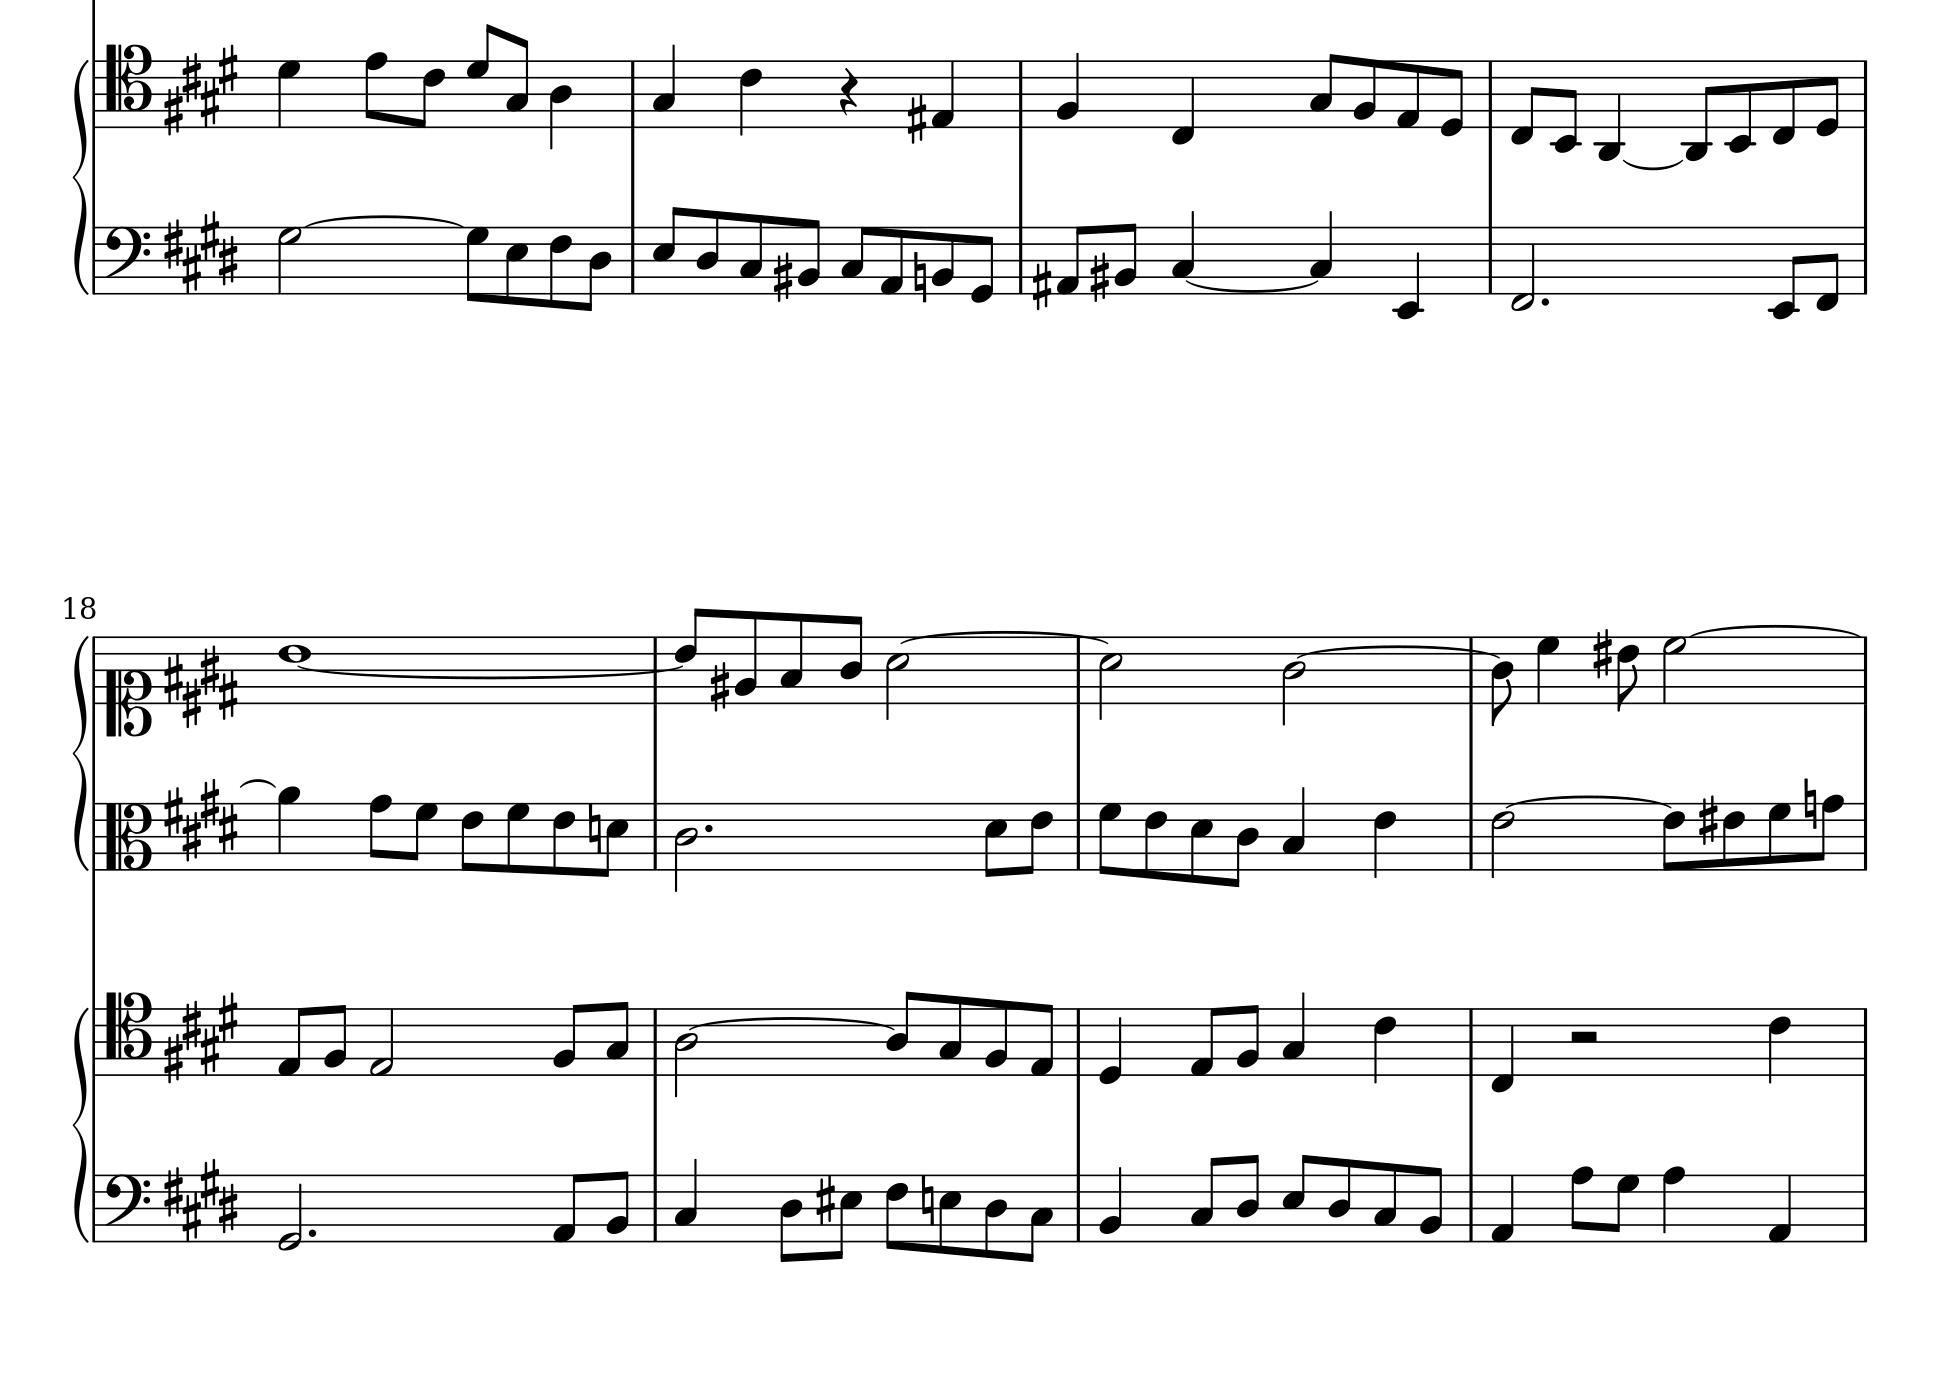1: (61, 594, 75, 619)
1_6: (277, 634, 310, 705)
2_-1: (1510, 223, 1536, 312)
2_0: (277, 1171, 303, 1251)
2_1: (367, 1005, 396, 1077)
2_4: (1281, 634, 1308, 726), (673, 1006, 699, 1093), (673, 801, 697, 891)
2_5: (883, 634, 910, 720), (1098, 634, 1123, 721)
2_6: (1489, 801, 1515, 877)
2_7: (274, 223, 301, 295), (1662, 634, 1686, 705)
4_-1: (1170, 57, 1197, 145), (1491, 1005, 1515, 1093)
4_-2: (1395, 223, 1422, 319)
4_-3: (1594, 55, 1623, 163)
4_0: (1098, 1005, 1125, 1084)
4_1: (1489, 1173, 1516, 1243), (1767, 1173, 1794, 1243), (931, 58, 955, 129)
4_2: (1098, 1164, 1125, 1243), (1056, 49, 1081, 129)
4_3: (1308, 208, 1335, 295), (1281, 786, 1306, 871), (1281, 991, 1306, 1077), (652, 43, 676, 127), (1171, 210, 1195, 294), (673, 1158, 697, 1242)
4_4: (547, 58, 573, 148)
4_6: (1372, 799, 1398, 877), (738, 58, 762, 136), (1372, 1006, 1396, 1084), (1767, 1006, 1791, 1083)
4_7: (276, 58, 301, 129), (1536, 634, 1561, 703)
4_8: (1662, 1162, 1686, 1243)
4_9: (276, 783, 300, 870)
8: (78, 594, 96, 619)
8_-1: (1509, 58, 1542, 145), (1815, 223, 1842, 313), (1770, 58, 1797, 145)
8_-2: (1767, 223, 1803, 321), (1551, 57, 1581, 153), (1725, 58, 1755, 154)
8_-3: (1681, 58, 1716, 162)
8_0: (1440, 58, 1467, 138), (1815, 58, 1842, 136), (970, 225, 996, 304)
8_1: (550, 1171, 585, 1243), (276, 1003, 309, 1077), (1188, 1003, 1221, 1077), (1056, 223, 1087, 297), (1029, 1000, 1056, 1077), (1395, 58, 1422, 130), (879, 225, 904, 297)
8_2: (552, 1000, 585, 1075), (733, 609, 759, 705), (984, 997, 1009, 1077), (1419, 1164, 1444, 1243), (796, 217, 822, 295), (1113, 220, 1138, 295), (322, 1002, 348, 1077), (604, 1168, 630, 1243), (1353, 55, 1378, 129), (1236, 1002, 1260, 1077), (930, 225, 955, 295)
8_3: (1023, 1173, 1056, 1263), (1189, 1155, 1222, 1243), (778, 610, 805, 706), (1308, 52, 1341, 127), (504, 34, 529, 129), (840, 223, 871, 295), (937, 993, 963, 1078), (738, 211, 763, 295), (1372, 1159, 1398, 1243), (937, 1171, 961, 1257), (604, 1000, 628, 1077)
8_4: (885, 988, 918, 1077), (582, 225, 613, 312), (1230, 801, 1260, 889), (838, 613, 864, 705), (1491, 634, 1515, 727), (694, 208, 720, 295), (1327, 1156, 1353, 1243), (778, 1173, 802, 1264), (1236, 1152, 1260, 1243), (984, 1173, 1008, 1260)
8_5: (1281, 1152, 1314, 1243), (649, 205, 682, 295), (829, 1171, 862, 1260), (598, 799, 630, 879), (1188, 799, 1215, 885), (504, 223, 529, 307), (984, 799, 1008, 879)
8_6: (673, 604, 705, 705), (1023, 799, 1054, 874), (414, 58, 445, 130), (547, 223, 573, 310), (550, 801, 577, 877), (1143, 799, 1168, 880), (883, 1171, 909, 1252), (1615, 634, 1641, 712), (460, 799, 484, 871), (1662, 799, 1686, 871), (1722, 799, 1746, 871)
8_7: (465, 22, 496, 129), (1608, 1171, 1639, 1242), (406, 801, 438, 870), (463, 223, 489, 303), (1098, 799, 1122, 877), (1767, 799, 1792, 870), (505, 799, 529, 873)
8_8: (1815, 792, 1845, 871), (1569, 1164, 1596, 1243), (363, 49, 388, 129), (367, 792, 393, 871)
Brace: (70, 631, 90, 873), (70, 55, 90, 295), (70, 1003, 90, 1243)
Cclef: (103, 801, 151, 871)
E_S: (160, 43, 241, 133), (162, 991, 241, 1081), (160, 208, 241, 294), (162, 643, 240, 727), (162, 777, 240, 861), (162, 1158, 240, 1240)
Fclef: (102, 1171, 151, 1242), (102, 223, 150, 295)
Natural: (912, 249, 928, 304), (919, 1173, 934, 1228), (1803, 777, 1818, 829), (586, 802, 601, 853)
Rests2: (1569, 1029, 1600, 1045)
Rests4: (838, 66, 859, 115)
Sharp: (906, 91, 928, 144), (1030, 259, 1053, 310), (1591, 628, 1614, 679), (772, 250, 793, 304), (709, 660, 730, 712), (1698, 793, 1719, 846), (814, 1173, 835, 1225), (1089, 252, 1110, 303)
Single_barline: (1482, 60, 1498, 129), (1857, 226, 1873, 295), (1012, 226, 1029, 294), (1857, 1008, 1873, 1075), (1464, 1173, 1480, 1240), (1012, 60, 1029, 126), (646, 636, 663, 702), (646, 802, 663, 868), (1464, 1009, 1480, 1075), (1858, 60, 1873, 129), (625, 225, 640, 294), (1858, 802, 1873, 871), (1483, 226, 1498, 294), (648, 1008, 663, 1075), (625, 60, 640, 126), (1858, 637, 1873, 703), (1071, 802, 1086, 868), (1464, 802, 1479, 868), (1071, 1009, 1086, 1075), (648, 1174, 663, 1240), (1857, 1174, 1872, 1240), (1071, 1174, 1086, 1240), (88, 799, 102, 871), (88, 58, 102, 127), (88, 225, 102, 294), (88, 1006, 102, 1075), (88, 636, 102, 703), (88, 1173, 102, 1240), (1465, 636, 1477, 706), (1072, 651, 1086, 703)
Slur: (295, 663, 682, 682), (892, 627, 1108, 643), (1509, 790, 1672, 811), (1296, 643, 1503, 660), (679, 1015, 892, 1030), (1696, 624, 1864, 637), (295, 214, 466, 226), (1188, 280, 1320, 292), (1621, 157, 1684, 171), (238, 777, 277, 789)
Soprano_Cclef: (105, 634, 150, 736)
Tensor_Cclef: (103, 42, 151, 127), (103, 990, 151, 1074)
dot: (1539, 292, 1552, 309), (700, 820, 715, 834), (304, 1225, 316, 1237)
